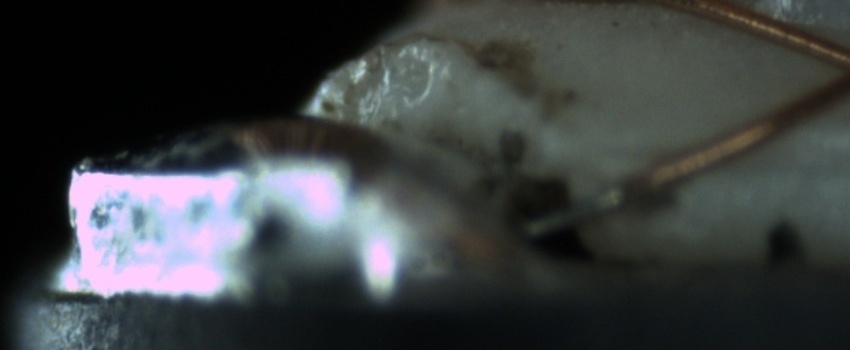CL: (805, 33, 850, 109)
DL: (704, 122, 849, 209)
TS: (519, 179, 633, 240)
